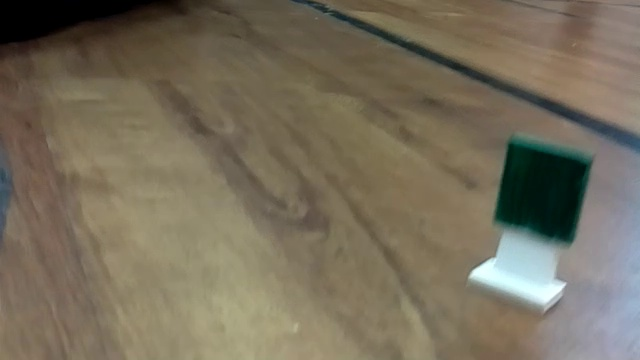rect: (464, 126, 602, 320)
